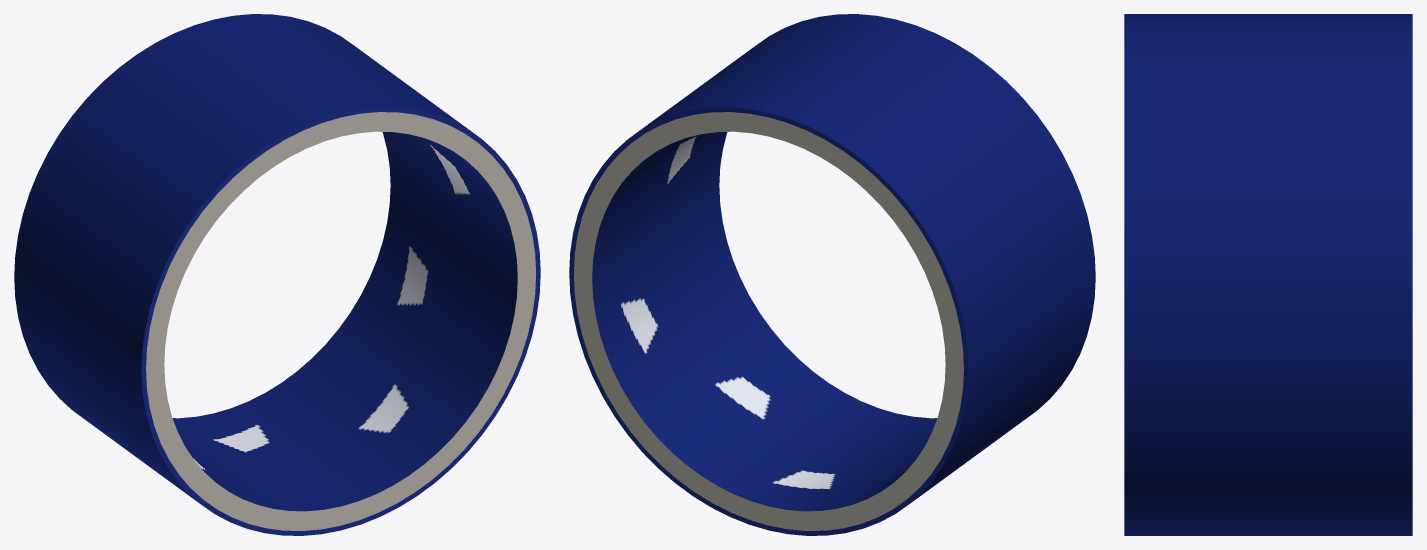
Rendered from roll_of_blue_tape.obj.
3 views of the same model, side by side, from view 1: azimuth 30°, elevation 25°; view 2: azimuth 150°, elevation 25°; view 3: azimuth 270°, elevation 25° (orthographic). The views are drawn at different scales.
Visible parts, largest first — view 1: part0, part5, part3, part1; view 2: part0, part5, part4, part2; view 3: part0.
Boxes of the visible parts, <box> form: part0: <box>14,14,476,502</box>; part5: <box>172,132,517,511</box>; part3: <box>146,112,535,530</box>; part1: <box>141,107,540,535</box>; part0: <box>633,14,1095,502</box>; part5: <box>592,132,937,511</box>; part4: <box>574,112,963,530</box>; part2: <box>569,107,968,535</box>; part0: <box>1124,14,1412,535</box>.
Bounding box in the file's own units: 0.087 × 0.087 × 0.048.
4 materials, 1 textured.
